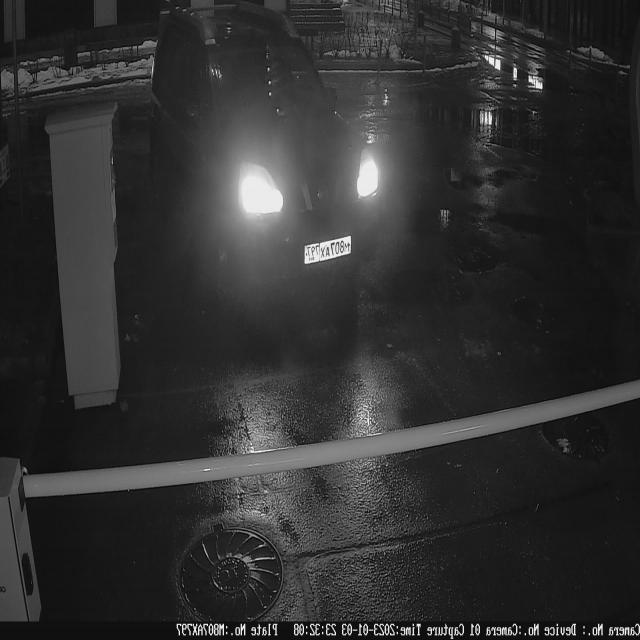car-plate-numbers: (302, 234, 355, 269)
